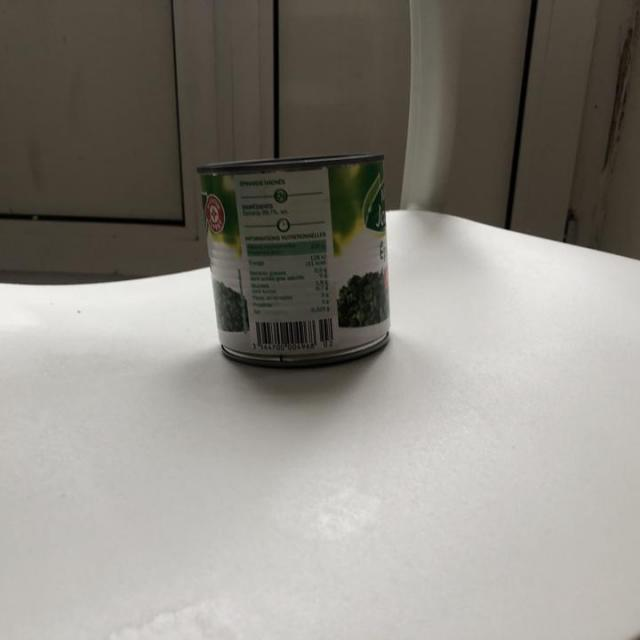recyclable: (188, 144, 405, 375)
